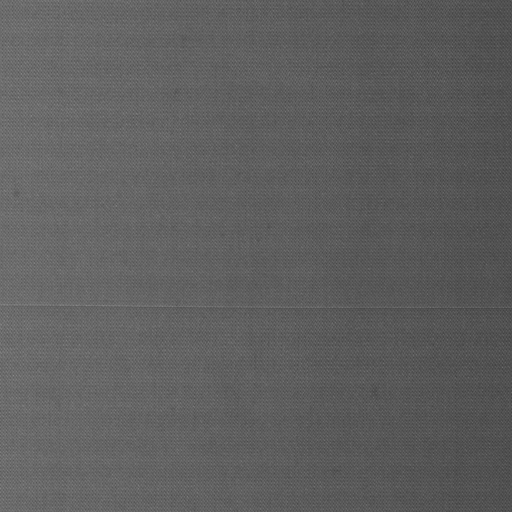defect: (1, 300, 512, 313)
